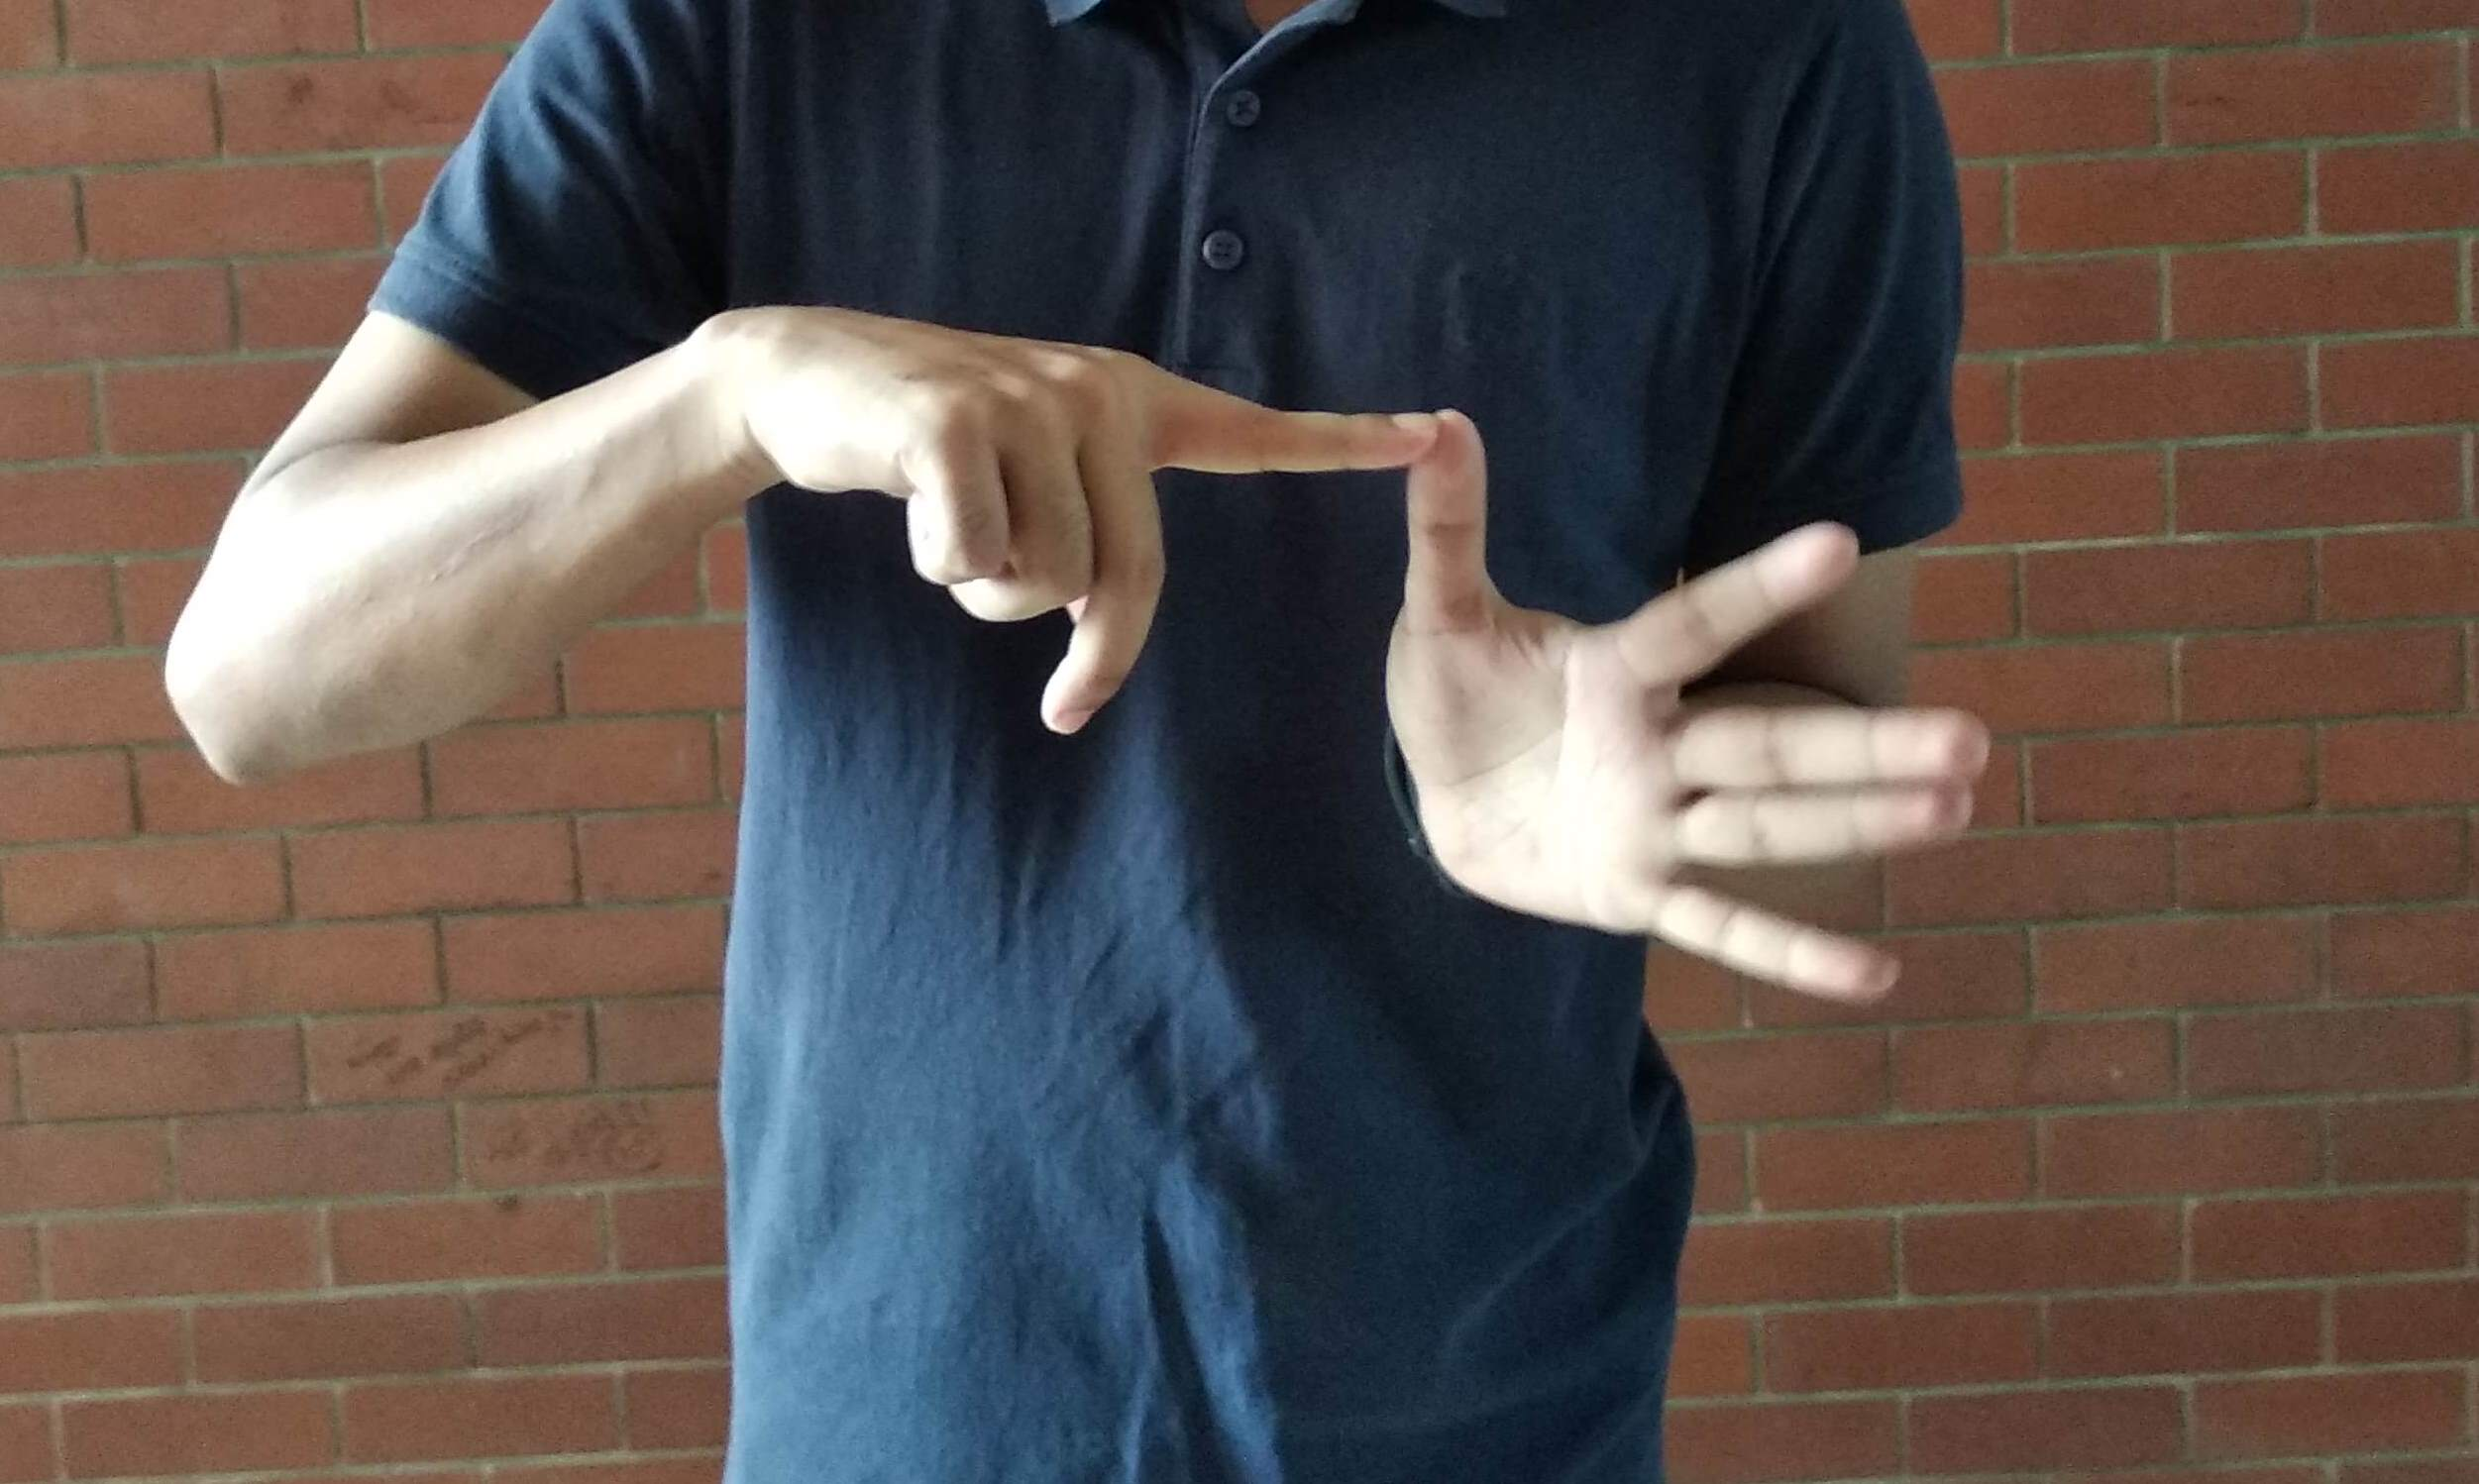a: (820, 343, 1956, 996)
